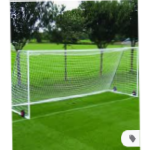goals: (11, 45, 139, 118)
